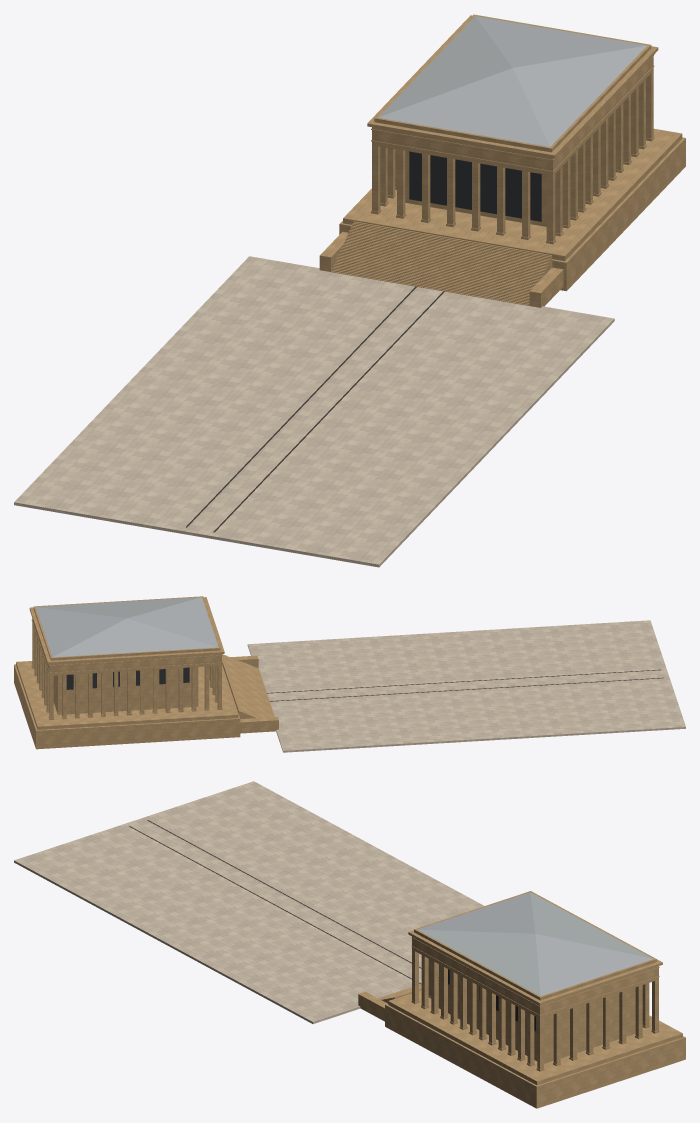
Rendered from anit-blok.glb.
3 renders of one model, top to bottom at view 1: azimuth 30°, elevation 25°; view 2: azimuth 150°, elevation 25°; view 3: azimuth 270°, elevation 25°, orthographic. The views are drawn at different scales.
Parts seen in each view (by area): view 1: TorenMeydani_Zemin, AnitBlok_Yapi; view 2: TorenMeydani_Zemin, AnitBlok_Yapi; view 3: TorenMeydani_Zemin, AnitBlok_Yapi.
Boxes of the visible parts, <box> form: TorenMeydani_Zemin: <box>14,256,614,567</box>; AnitBlok_Yapi: <box>319,14,685,307</box>; TorenMeydani_Zemin: <box>247,620,685,752</box>; AnitBlok_Yapi: <box>14,596,278,749</box>; TorenMeydani_Zemin: <box>14,781,484,1023</box>; AnitBlok_Yapi: <box>358,891,685,1108</box>.
Size of the model in its own units: 211 by 33.3 by 185.
5 materials, 2 textured.
